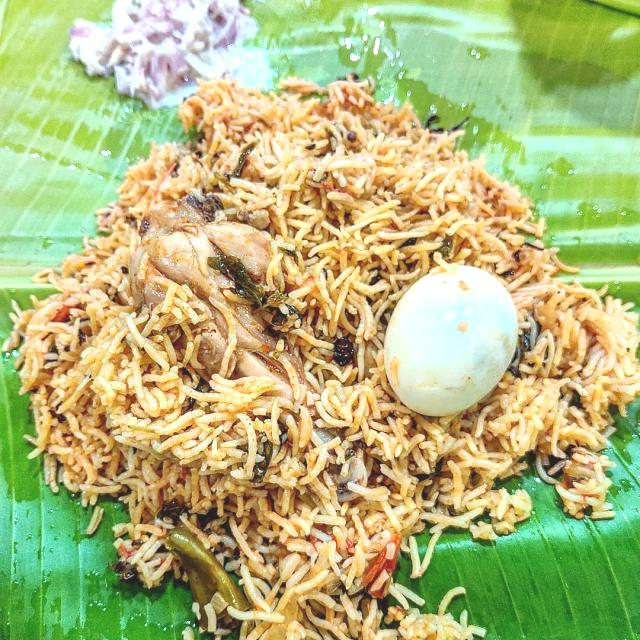biryani: (56, 47, 616, 600)
